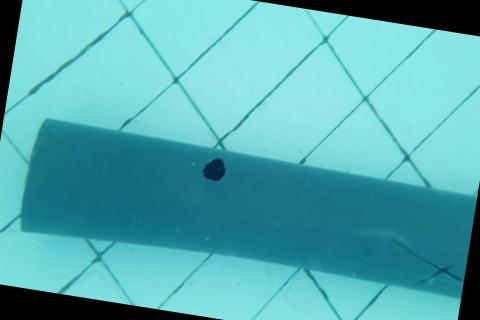kebocoran: (201, 154, 229, 183)
keretakan: (386, 236, 469, 292)
